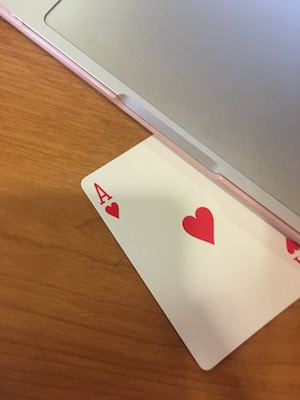AceOfHearts: (66, 130, 300, 374)
